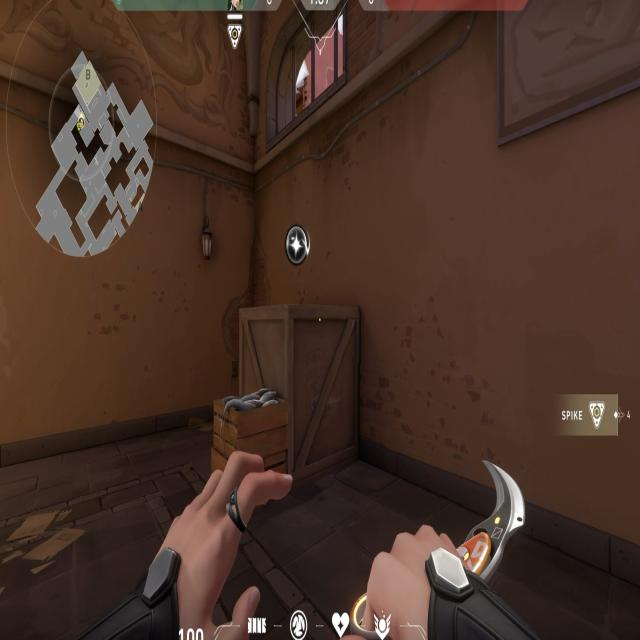B_Main_Wallbang: (195, 214, 319, 466)
Throwables: (264, 0, 356, 149)
